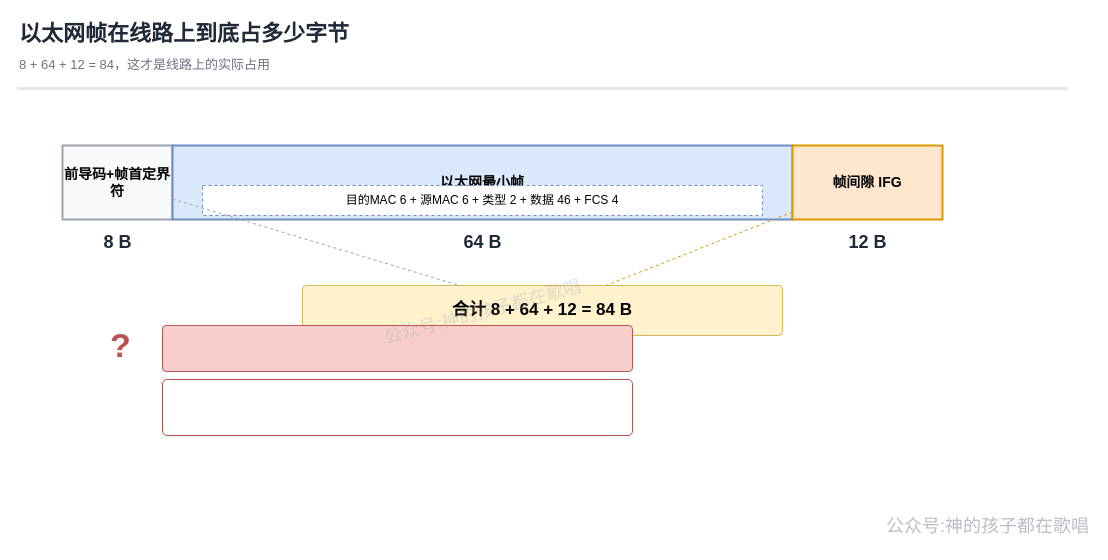
Some shapes in this 1108 by 560 pixel diagram are drawn without their labels. The centre of each missing label's shape, as x and y in pixels:
"因为前导码和帧间隙同样占用线路时间， 算吞吐率必须把它们算进去" goes at (397,407).
"考试为什么按 84 算，不按 64 算？" goes at (397,348).
